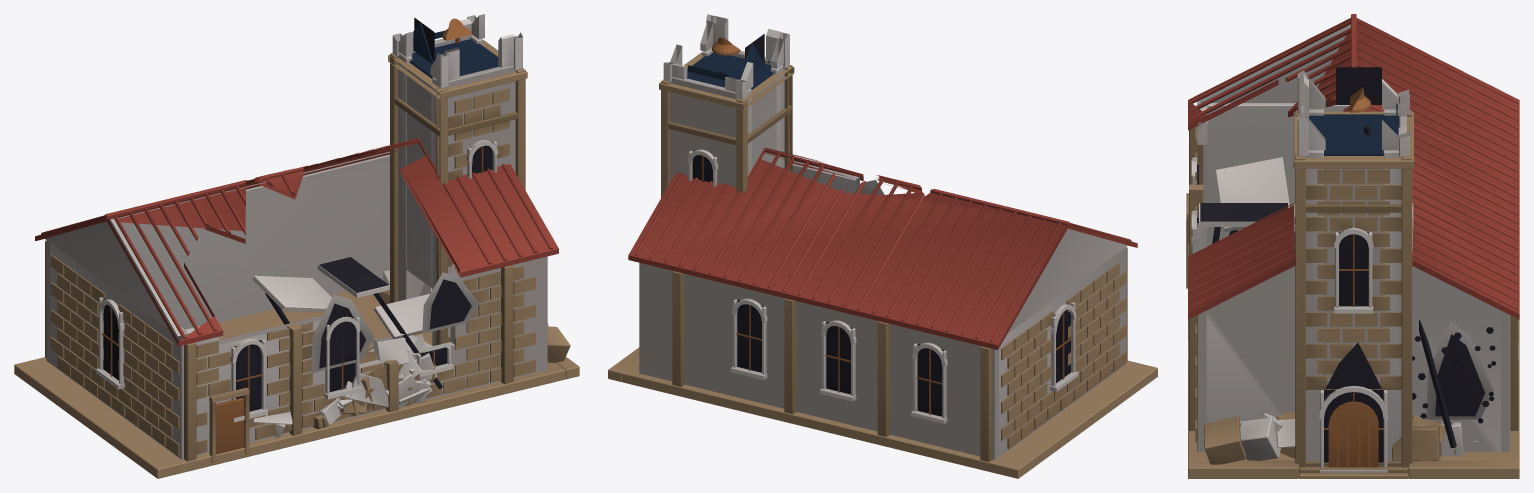
The picture shows the model from 3 angles, left to right: view 1: azimuth 30°, elevation 25°; view 2: azimuth 150°, elevation 25°; view 3: azimuth 270°, elevation 25°; orthographic projection. The views are drawn at different scales.
Visible parts, largest first — view 1: body_pal_picketWhite, body_pal_khaki, roof_pal_brick, body_pal_uiDark, body_pal_woodWarm, body_pal_blueTrim; view 2: body_pal_picketWhite, roof_pal_brick, body_pal_khaki, body_pal_uiDark, body_pal_blueTrim, body_pal_woodWarm; view 3: body_pal_picketWhite, roof_pal_brick, body_pal_khaki, body_pal_uiDark, door_front_pal_woodWarm, body_pal_blueTrim, body_pal_woodWarm.
Boxes of the visible parts, left/top/right/bottom form: body_pal_picketWhite: left=45, top=14, right=548, bottom=459; body_pal_khaki: left=14, top=40, right=579, bottom=478; roof_pal_brick: left=35, top=138, right=558, bottom=346; body_pal_uiDark: left=103, top=18, right=492, bottom=411; body_pal_woodWarm: left=101, top=18, right=483, bottom=454; body_pal_blueTrim: left=409, top=23, right=499, bottom=78; body_pal_picketWhite: left=639, top=14, right=1127, bottom=459; roof_pal_brick: left=628, top=148, right=1137, bottom=349; body_pal_khaki: left=608, top=52, right=1157, bottom=478; body_pal_uiDark: left=692, top=34, right=1070, bottom=416; body_pal_blueTrim: left=686, top=43, right=773, bottom=89; body_pal_woodWarm: left=702, top=37, right=1072, bottom=414; body_pal_picketWhite: left=1188, top=24, right=1518, bottom=472; roof_pal_brick: left=1188, top=14, right=1519, bottom=319; body_pal_khaki: left=1186, top=110, right=1519, bottom=478; body_pal_uiDark: left=1197, top=67, right=1496, bottom=462; door_front_pal_woodWarm: left=1328, top=401, right=1378, bottom=467; body_pal_blueTrim: left=1309, top=67, right=1399, bottom=155; body_pal_woodWarm: left=1324, top=87, right=1383, bottom=429.
Size of the model in its own units: 18 by 12.9 by 10.65.
